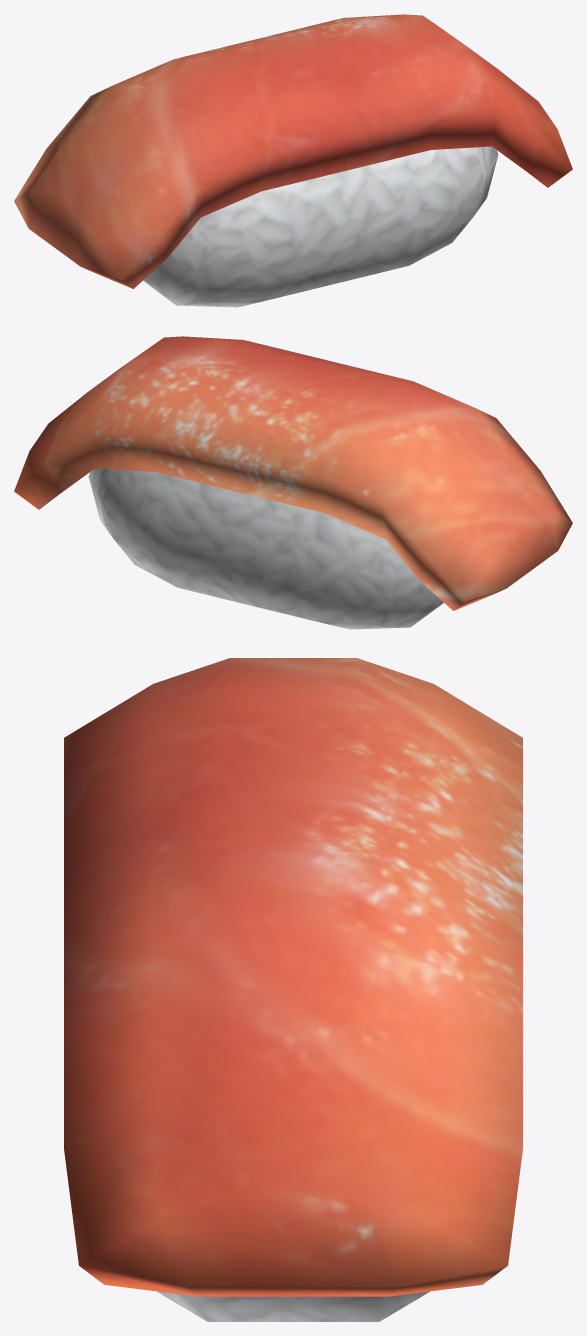
Rendered from tuna_toro.fbx.
3 renders of one model, top to bottom at view 1: azimuth 30°, elevation 25°; view 2: azimuth 150°, elevation 25°; view 3: azimuth 270°, elevation 25°, orthographic. The views are drawn at different scales.
Parts seen in each view (by area): view 1: tuna_toro; view 2: tuna_toro; view 3: tuna_toro.
Part boxes in pixels (box(x1,y1,x2,y2)): tuna_toro: box(14, 14, 572, 307); tuna_toro: box(14, 336, 572, 629); tuna_toro: box(64, 658, 522, 1321).
Size of the model in its own units: 7.62 by 3.36 by 3.17.
